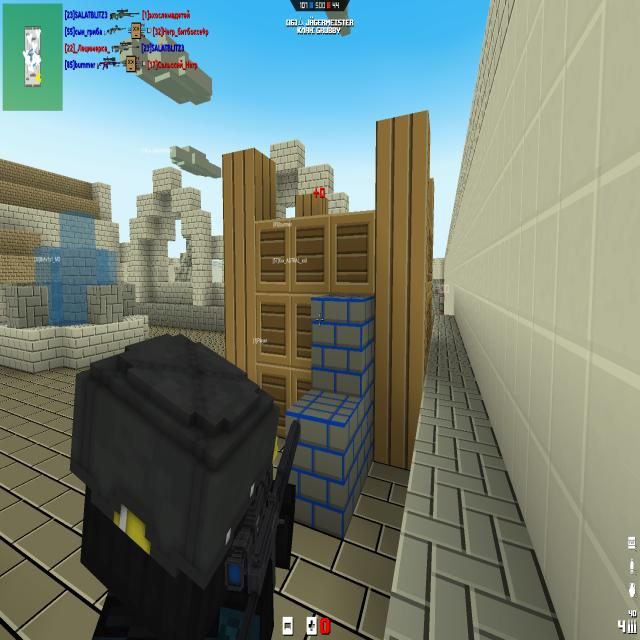player: (68, 338, 254, 640)
